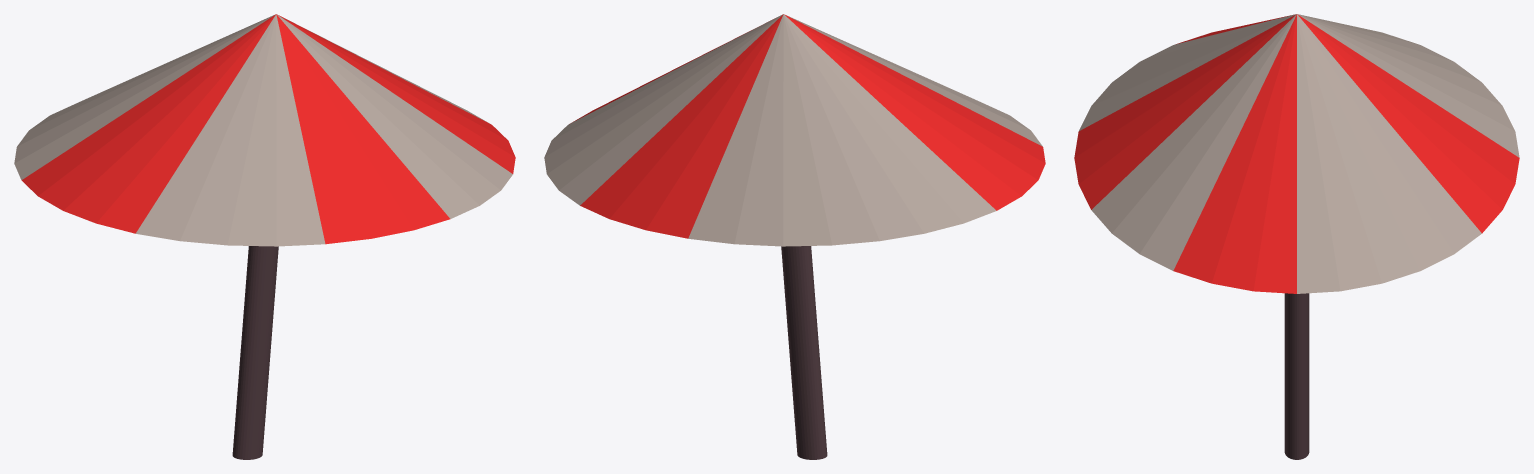
The picture shows the model from 3 angles, left to right: view 1: azimuth 30°, elevation 25°; view 2: azimuth 150°, elevation 25°; view 3: azimuth 270°, elevation 25°; orthographic projection. The views are drawn at different scales.
Bounding box in the file's own units: 1.22 × 1.12 × 0.995.
